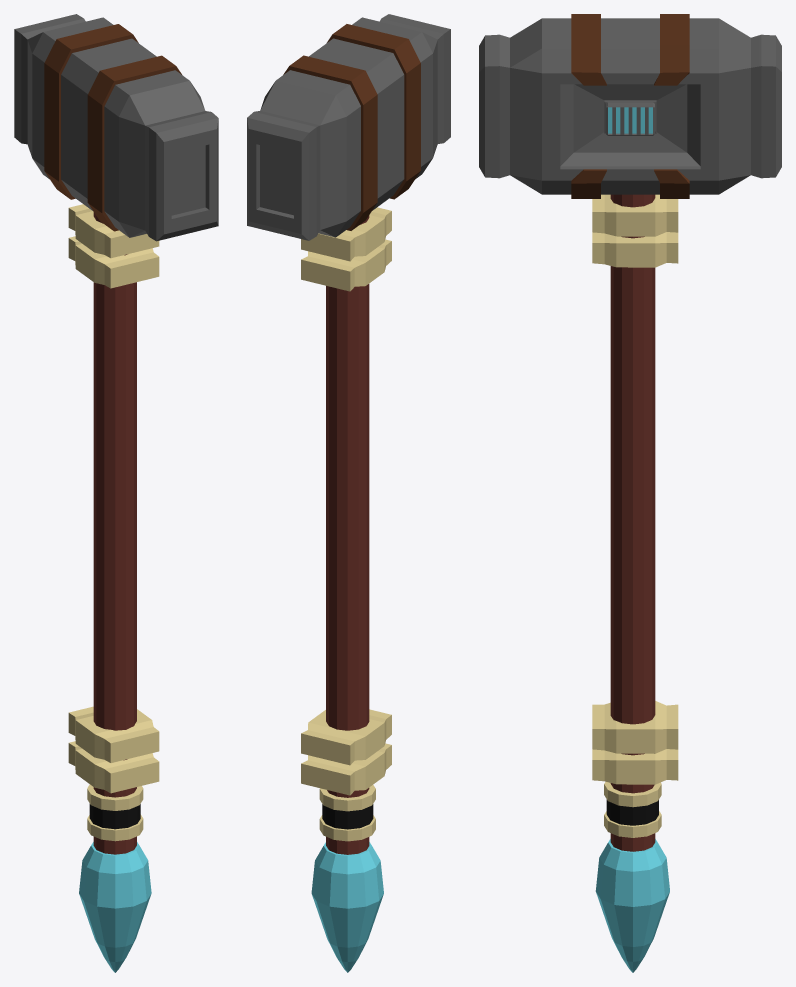
Rendered from hammer low poly .fbx.
3 views of the same model, side by side, from view 1: azimuth 30°, elevation 25°; view 2: azimuth 150°, elevation 25°; view 3: azimuth 270°, elevation 25° (orthographic). The views are drawn at different scales.
Parts seen in each view (by area): view 1: hammer head, hilt, stone, guard.003, guard.004, guard.002, guard.001, piece.001, piece, piece.002; view 2: hammer head, hilt, stone, guard.003, guard.002, guard.004, guard.001, piece.001, piece, piece.002; view 3: hammer head, hilt, stone, guard.003, guard.001, guard.002, guard.004, piece.001, piece, piece.002.
Boxes of the visible parts, x1,y1,x2,y2 form: hammer head: (14,14,218,241); hilt: (93,212,136,854); stone: (79,842,151,972); guard.003: (68,706,159,762); guard.004: (68,741,159,793); guard.002: (68,236,159,288); guard.001: (68,204,159,258); piece.001: (89,803,140,829); piece: (87,784,143,810); piece.002: (87,814,143,841); hammer head: (247,14,450,240); hilt: (326,215,369,854); stone: (311,842,383,972); guard.003: (301,709,391,765); guard.002: (301,239,391,291); guard.004: (301,743,391,795); guard.001: (301,207,391,261); piece.001: (322,804,373,829); piece: (319,785,375,811); piece.002: (319,815,375,841); hammer head: (479,14,781,198); hilt: (610,194,655,851); stone: (595,839,669,972); guard.003: (592,701,678,753); guard.001: (592,194,678,236); guard.002: (592,232,678,267); guard.004: (592,749,678,784); piece.001: (606,799,658,825); piece: (604,782,661,807); piece.002: (604,811,661,837).
Size of the model in its own units: 6.13 by 62.39 by 18.15.
